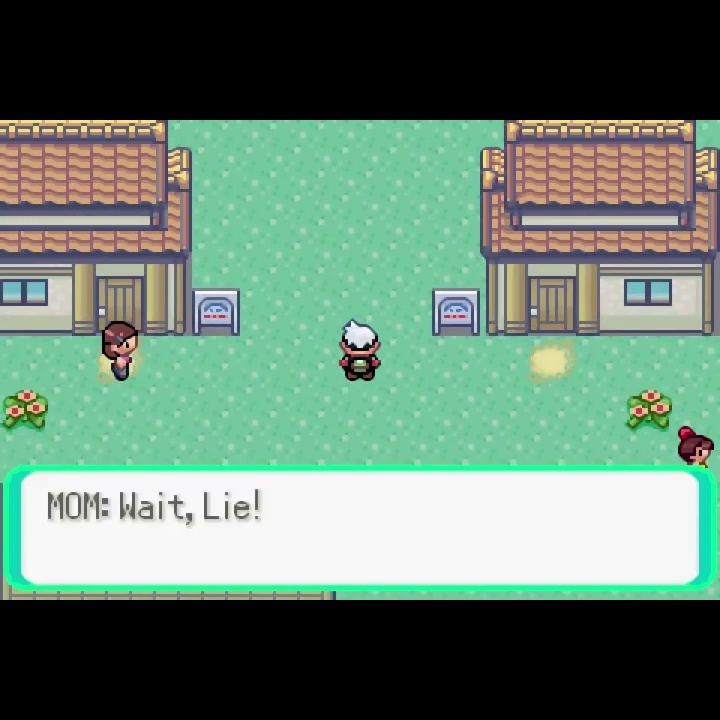house: (476, 120, 720, 340), (1, 120, 194, 340)
npc: (335, 315, 384, 383), (99, 319, 137, 382), (674, 423, 720, 464)
